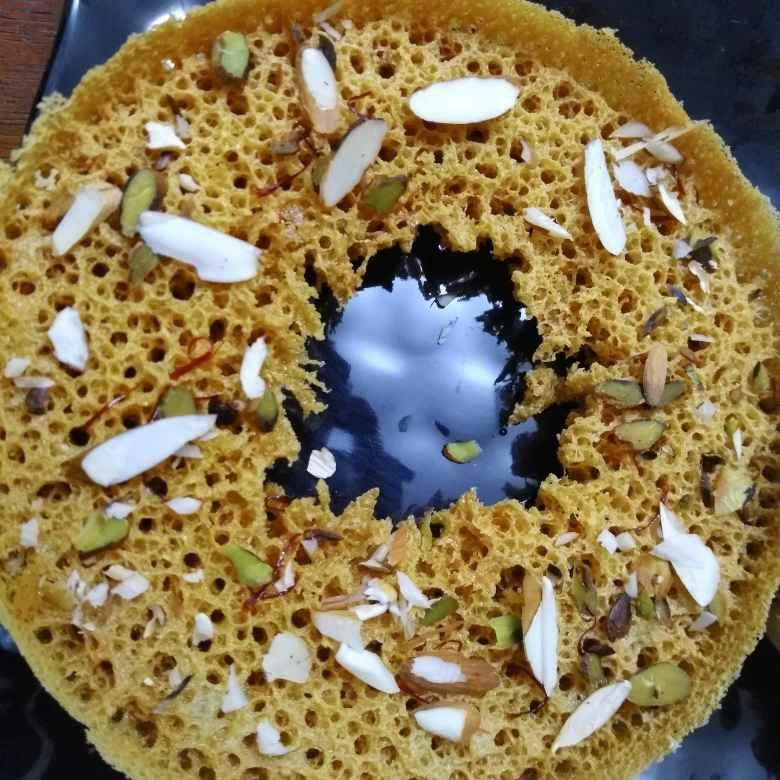Ghevar: (5, 4, 780, 780)
